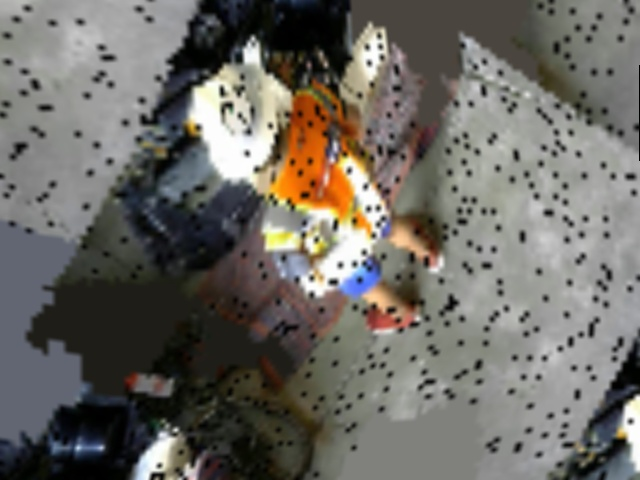one: (217, 80, 257, 142)
